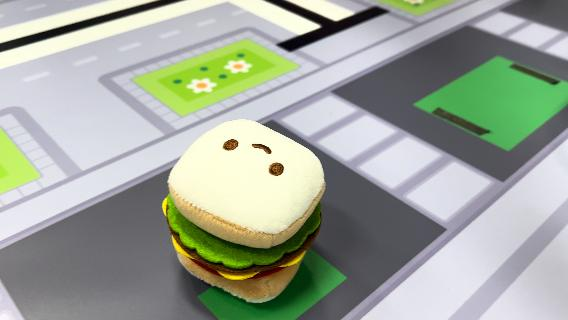sandwich: (160, 117, 328, 303)
